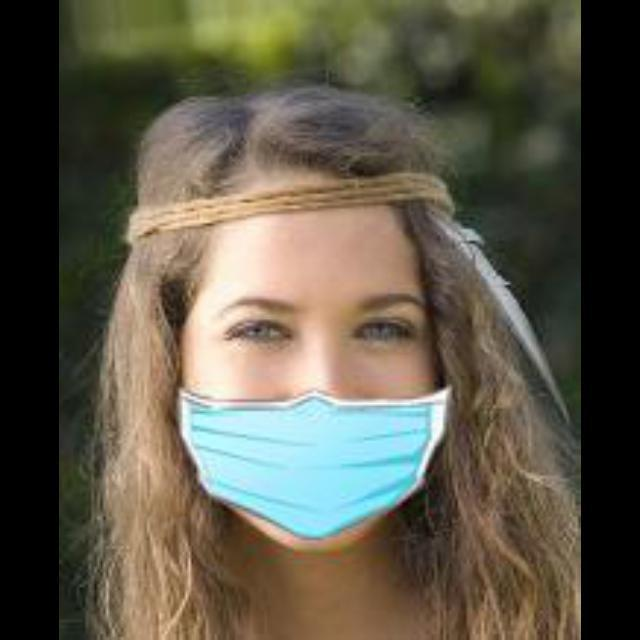suspicion: (166, 182, 448, 548)
